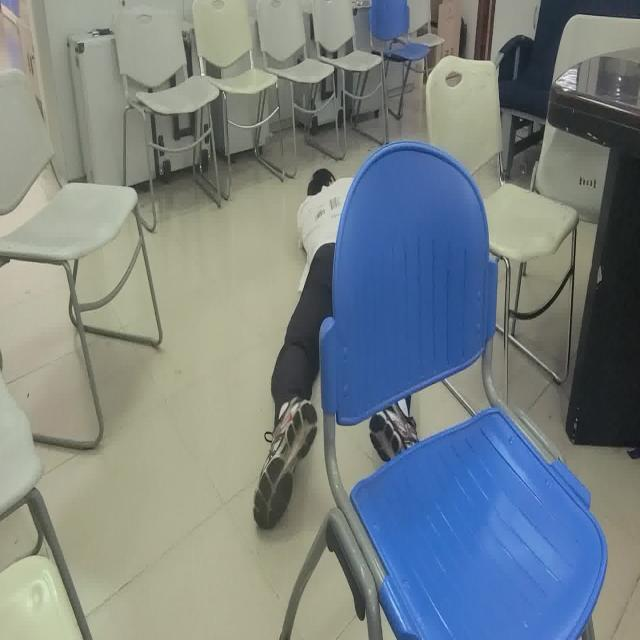Fall-Detected: (252, 165, 420, 534)
